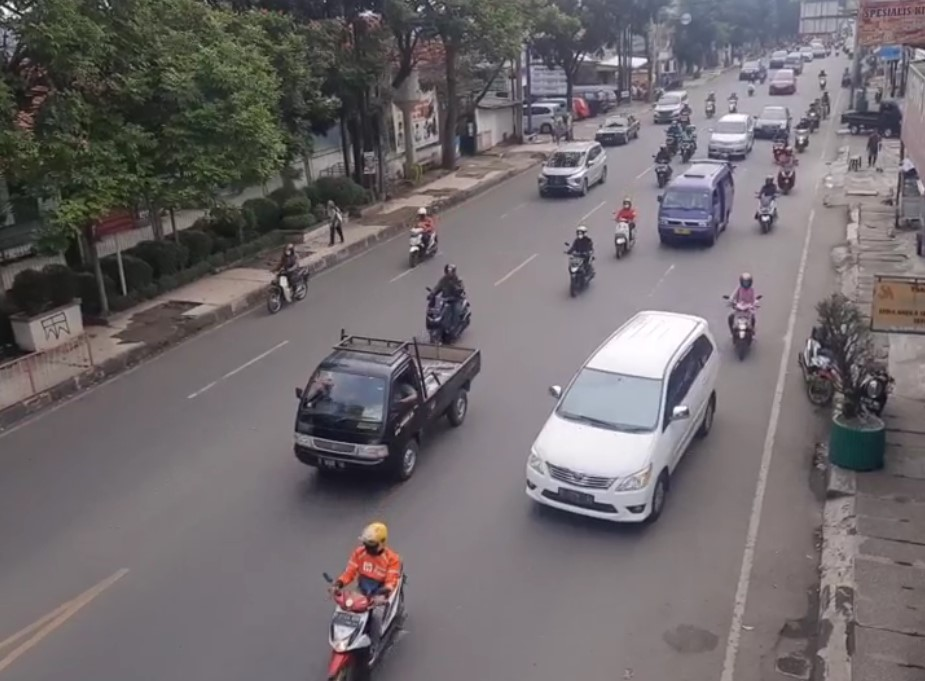motor: (295, 516, 441, 679), (412, 263, 478, 348), (262, 242, 311, 311), (724, 273, 763, 358), (562, 225, 597, 289), (404, 204, 443, 261), (609, 193, 639, 256), (750, 172, 779, 235)
